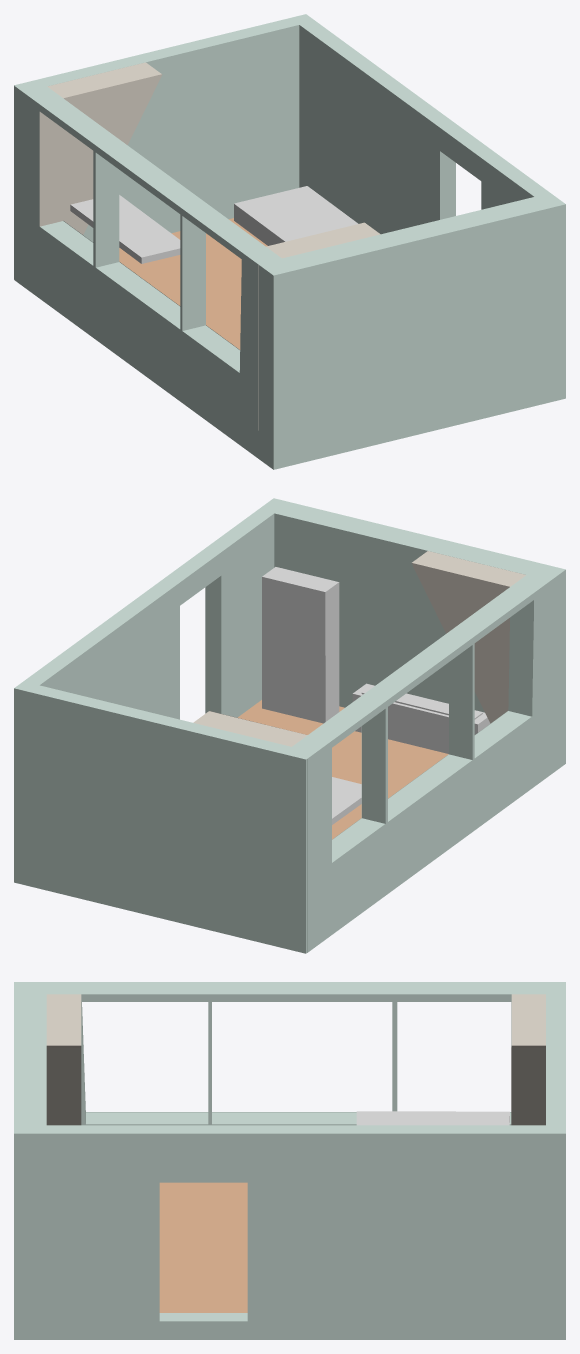
File: Blender-kamer-leeuwarden.glb
The picture shows the model from 3 angles, top to bottom: view 1: azimuth 30°, elevation 25°; view 2: azimuth 150°, elevation 25°; view 3: azimuth 270°, elevation 25°; orthographic projection. The views are drawn at different scales.
Parts seen in each view (by area): view 1: Cube.001, Cube.004, Cube, Cube.002, Cube.005, Cube.003; view 2: Cube.001, Cube.007, Cube.003, Cube, Cube.006, Cube.004, Cube.005; view 3: Cube.001, Cube, Cube.003, Cube.004, Cube.005.
Boxes of the visible parts, x1,y1,x2,y2 form: Cube.001: [14, 14, 565, 469]; Cube.004: [39, 62, 162, 234]; Cube: [119, 218, 267, 349]; Cube.002: [234, 186, 358, 245]; Cube.005: [70, 195, 180, 263]; Cube.003: [258, 222, 380, 430]; Cube.001: [14, 498, 565, 953]; Cube.007: [262, 567, 339, 723]; Cube.003: [412, 551, 525, 723]; Cube: [237, 700, 448, 839]; Cube.006: [352, 683, 490, 753]; Cube.004: [193, 711, 307, 746]; Cube.005: [332, 777, 361, 824]; Cube.001: [14, 982, 565, 1339]; Cube: [159, 1182, 247, 1312]; Cube.003: [46, 994, 81, 1125]; Cube.004: [511, 994, 545, 1125]; Cube.005: [356, 1111, 509, 1125].
Size of the model in its own units: 35.91 by 22.8 by 55.26.
